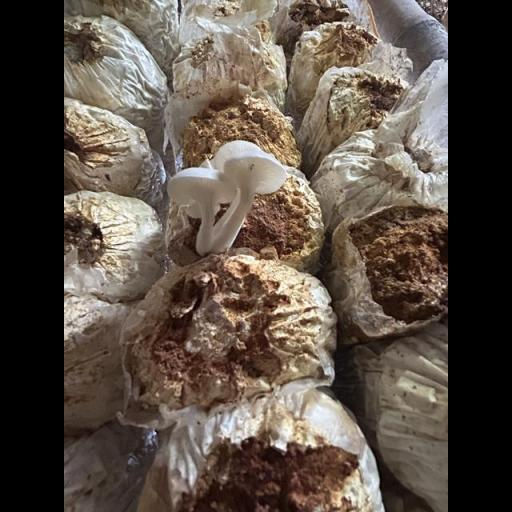White Oyster Mushroom: (167, 141, 288, 257)
